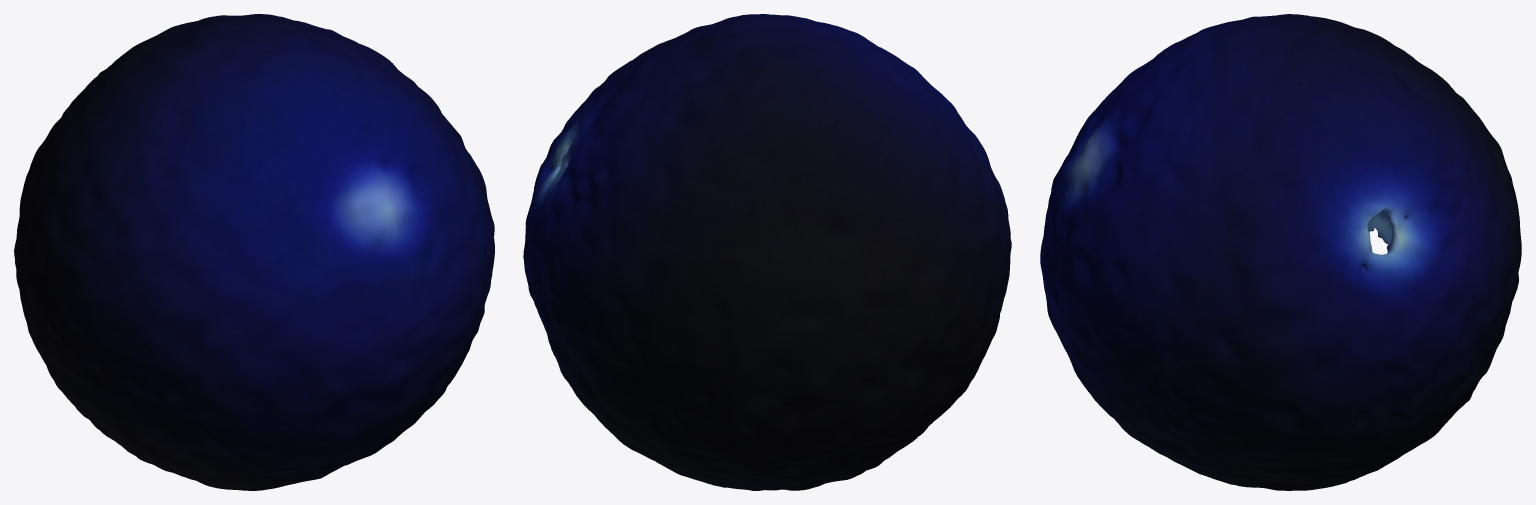
3 views of the same model, side by side, from view 1: azimuth 30°, elevation 25°; view 2: azimuth 150°, elevation 25°; view 3: azimuth 270°, elevation 25° (orthographic).
Size of the model in its own units: 0.7928 by 0.7802 by 0.7835.
1 material, 1 textured.
